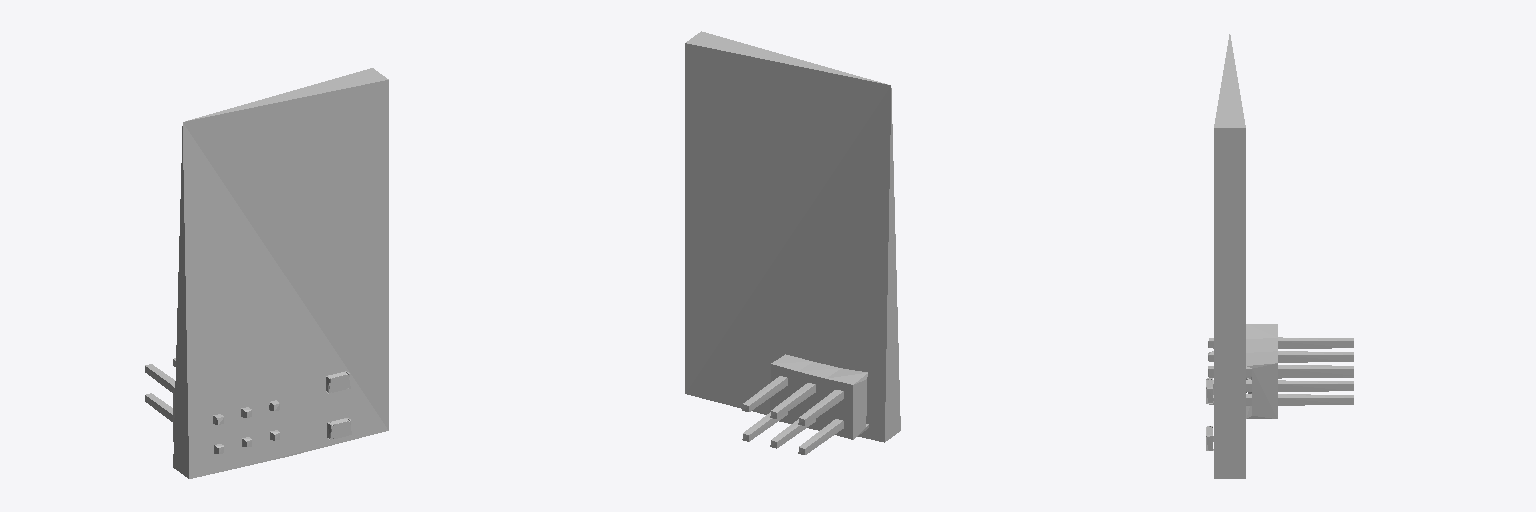
File: OBJ_SIPM_small.obj
3 renders of one model, left to right at view 1: azimuth 30°, elevation 25°; view 2: azimuth 150°, elevation 25°; view 3: azimuth 270°, elevation 25°, orthographic.
Size of the model in its own units: 71.3 by 120 by 45.76.